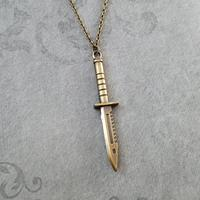knife: (74, 30, 127, 180)
